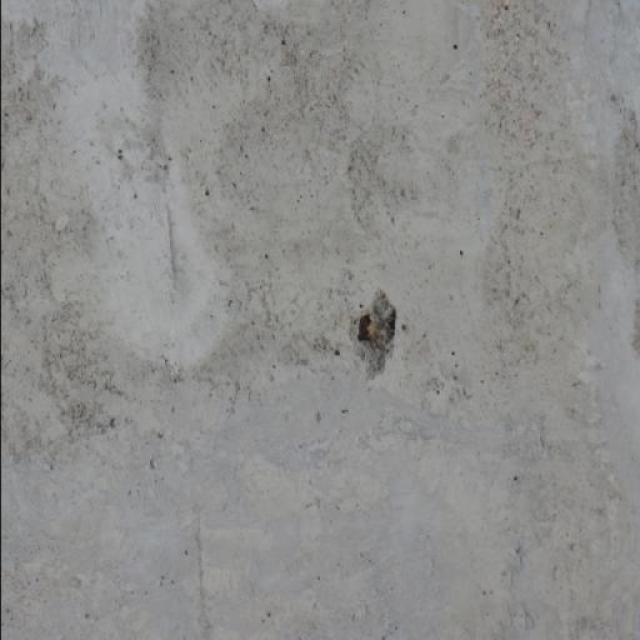D10: (350, 291, 400, 368)
